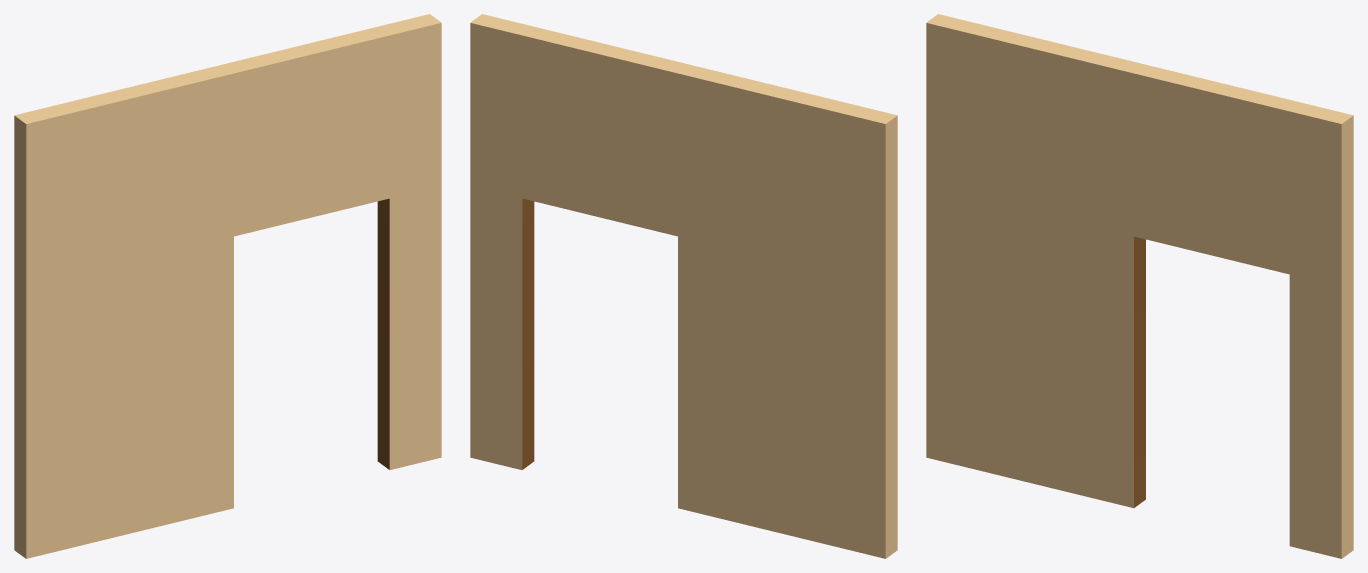
Rendered from Wall_Doorway_01.fbx.
The picture shows the model from 3 angles, left to right: view 1: azimuth 30°, elevation 25°; view 2: azimuth 150°, elevation 25°; view 3: azimuth 330°, elevation 25°; orthographic projection.
Visible parts, largest first — view 1: Wall_Doorway_01; view 2: Wall_Doorway_01; view 3: Wall_Doorway_01.
Boxes of the visible parts, left/top/right/bottom form: Wall_Doorway_01: left=14, top=14, right=441, bottom=558; Wall_Doorway_01: left=470, top=14, right=897, bottom=558; Wall_Doorway_01: left=926, top=14, right=1353, bottom=558.
Bounding box in the file's own units: 4 × 4 × 0.2.
